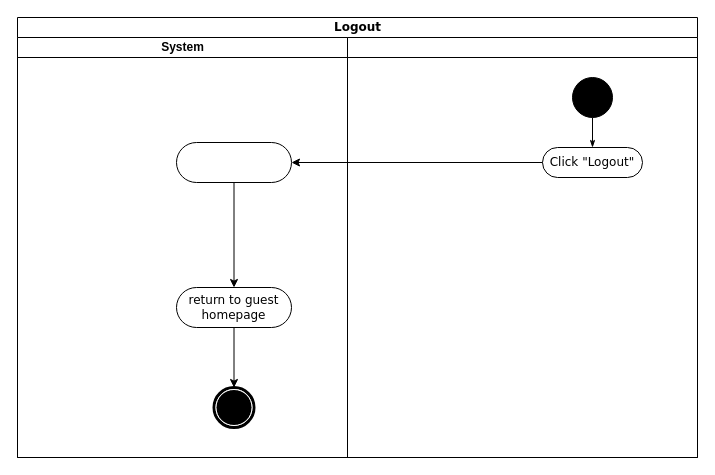
Image size: 715x475. Some labels were removed from this diagram. Each missing label, with the box of its shape:
session=null: (176, 142, 292, 182)
User: (346, 36, 698, 458)
